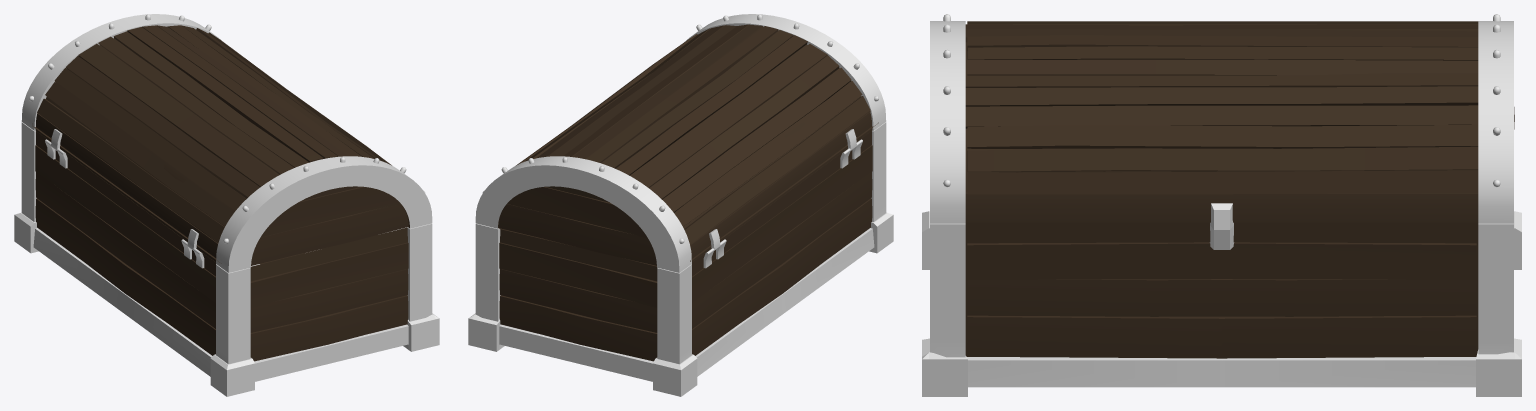
File: Chest.fbx
3 views of the same model, side by side, from view 1: azimuth 30°, elevation 25°; view 2: azimuth 150°, elevation 25°; view 3: azimuth 270°, elevation 25° (orthographic). The views are drawn at different scales.
Visible parts, largest first — view 1: Cube.002, Cube.001; view 2: Cube.002, Cube.001; view 3: Cube.002, Cube.001.
Part boxes in pixels (<box>): Cube.002: <box>21,14,432,272</box>; Cube.001: <box>14,122,439,396</box>; Cube.002: <box>475,14,886,272</box>; Cube.001: <box>468,122,893,396</box>; Cube.002: <box>930,14,1514,229</box>; Cube.001: <box>922,211,1521,396</box>.
Bounding box in the file's own units: 110 × 99.86 × 189.
